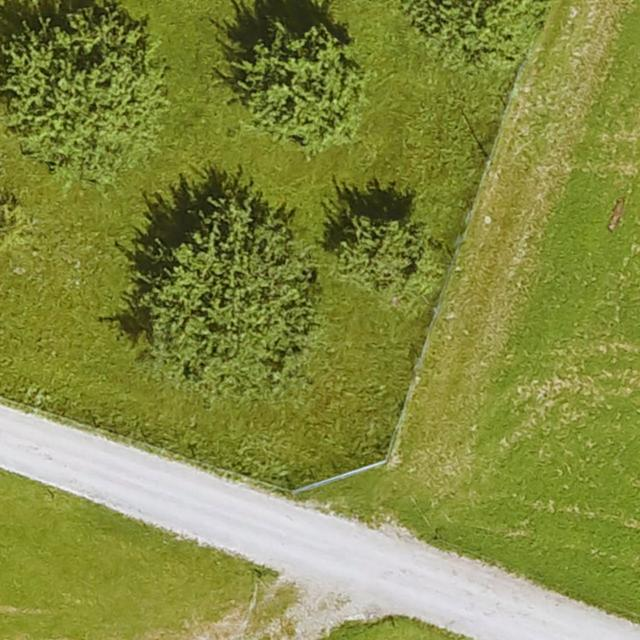tree: (154, 201, 319, 391), (1, 1, 161, 170), (238, 23, 362, 149), (402, 0, 541, 68), (337, 218, 423, 292)
